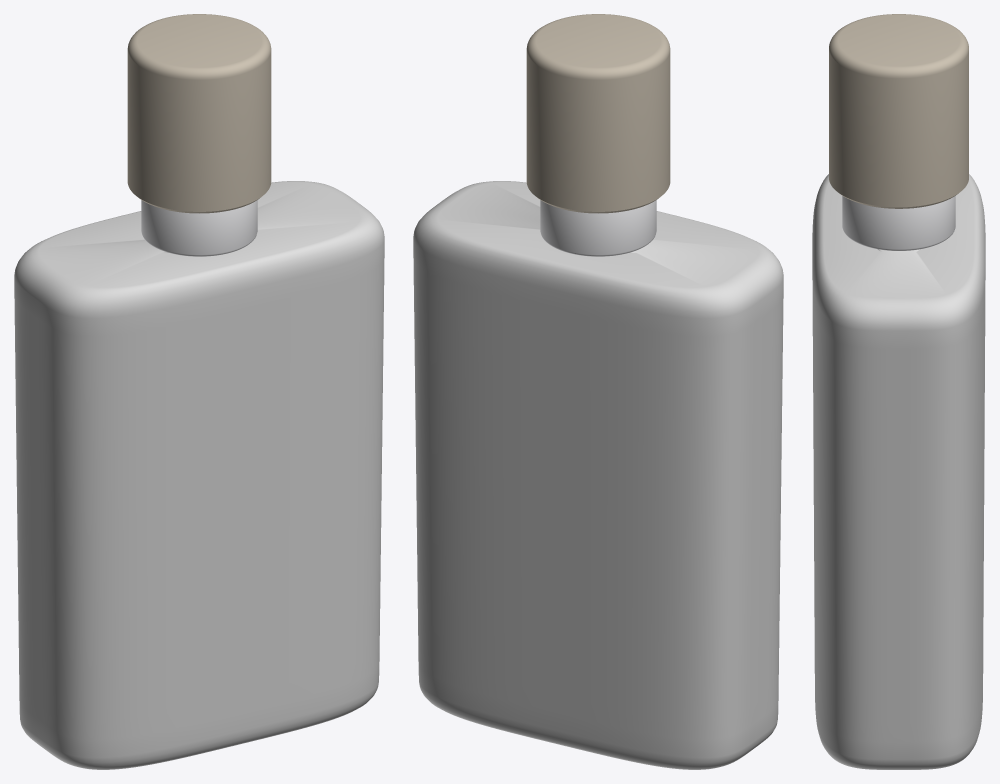
The model's file is minimalist-stilla.glb.
3 renders of one model, left to right at view 1: azimuth 30°, elevation 25°; view 2: azimuth 150°, elevation 25°; view 3: azimuth 270°, elevation 25°, orthographic. The views are drawn at different scales.
Visible parts, largest first — view 1: Glass_Body, Cap, Collar; view 2: Glass_Body, Cap, Collar; view 3: Glass_Body, Cap, Collar.
Boxes of the visible parts, x1,y1,x2,y2 form: Glass_Body: (14, 181, 384, 769); Cap: (127, 14, 271, 213); Collar: (141, 200, 257, 256); Glass_Body: (413, 181, 783, 769); Cap: (526, 14, 670, 213); Collar: (540, 200, 656, 256); Glass_Body: (812, 174, 985, 769); Cap: (829, 14, 968, 208); Collar: (842, 196, 955, 250).
Size of the model in its own units: 0.0604 by 0.1178 by 0.0281.
